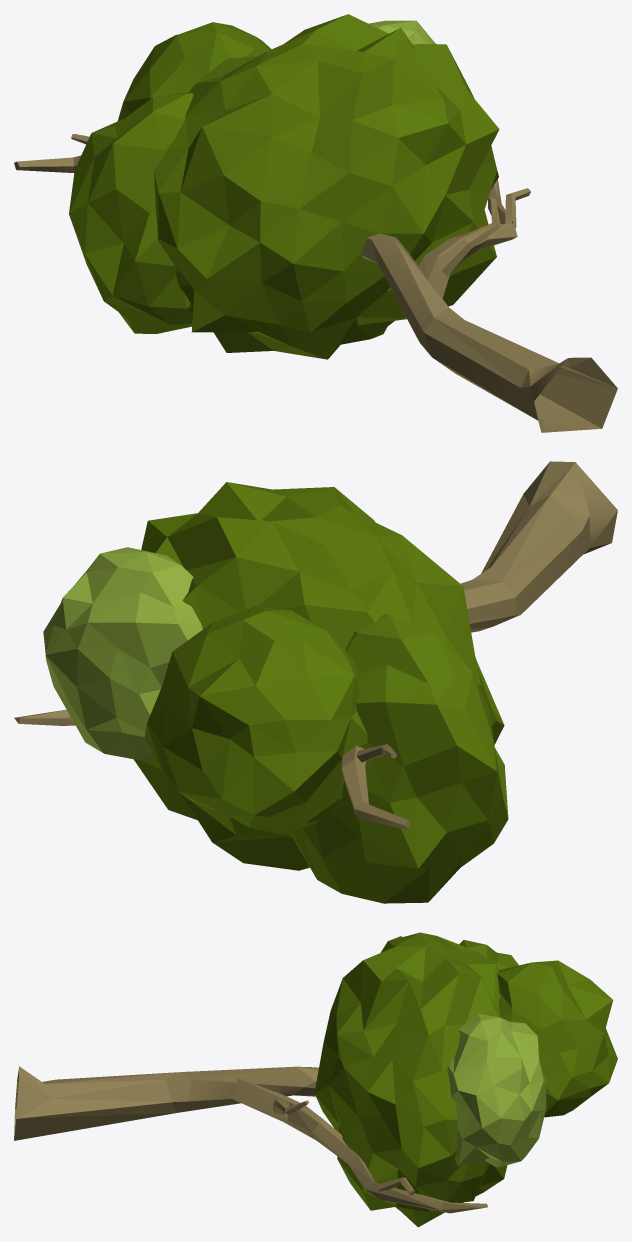
Rendered from LowPoly - Tree 02.fbx.
The picture shows the model from 3 angles, top to bottom: view 1: azimuth 30°, elevation 25°; view 2: azimuth 150°, elevation 25°; view 3: azimuth 270°, elevation 25°; orthographic projection. The views are drawn at different scales.
Visible parts, largest first — view 1: LowPoly - Tree 02; view 2: LowPoly - Tree 02; view 3: LowPoly - Tree 02.
Part boxes in pixels (x1=…): LowPoly - Tree 02: x1=14, y1=14, x2=617, y2=432; LowPoly - Tree 02: x1=14, y1=461, x2=617, y2=903; LowPoly - Tree 02: x1=14, y1=932, x2=617, y2=1227.
Bounding box in the file's own units: 565 × 389 × 844.
